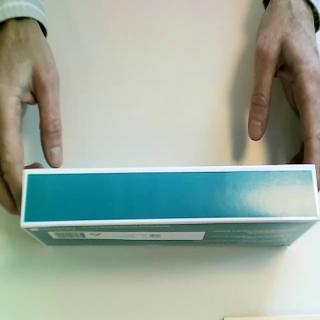metadon_hydrochlorid40mg: (19, 164, 319, 253)
